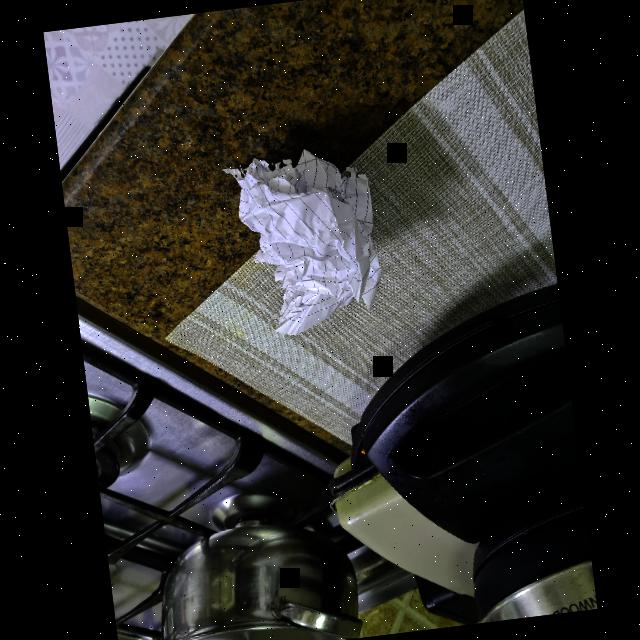scrap_paper: (229, 144, 384, 340)
